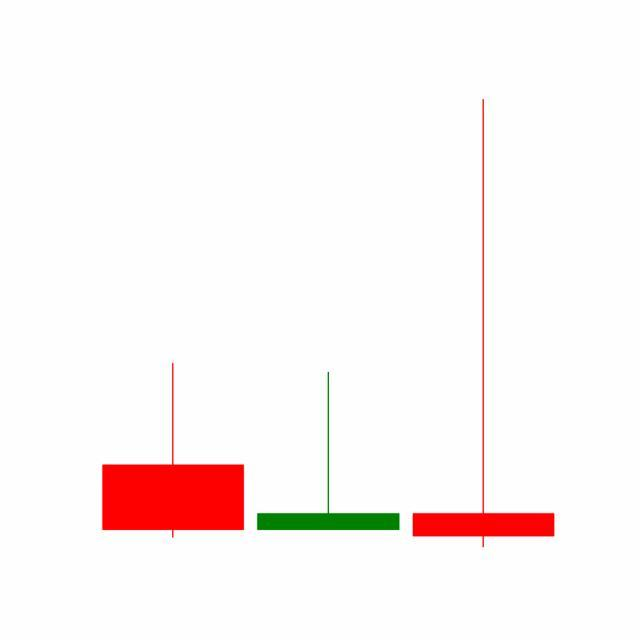Gravestone Doji: (250, 370, 407, 532)
